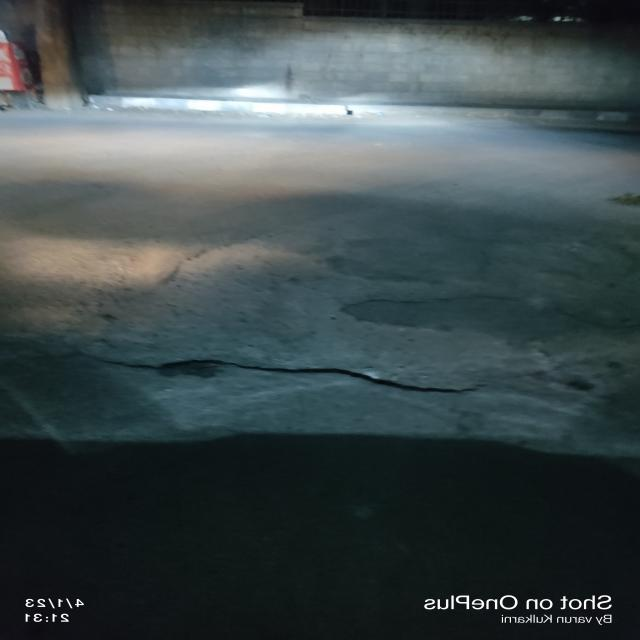potholes: (68, 234, 630, 392)
